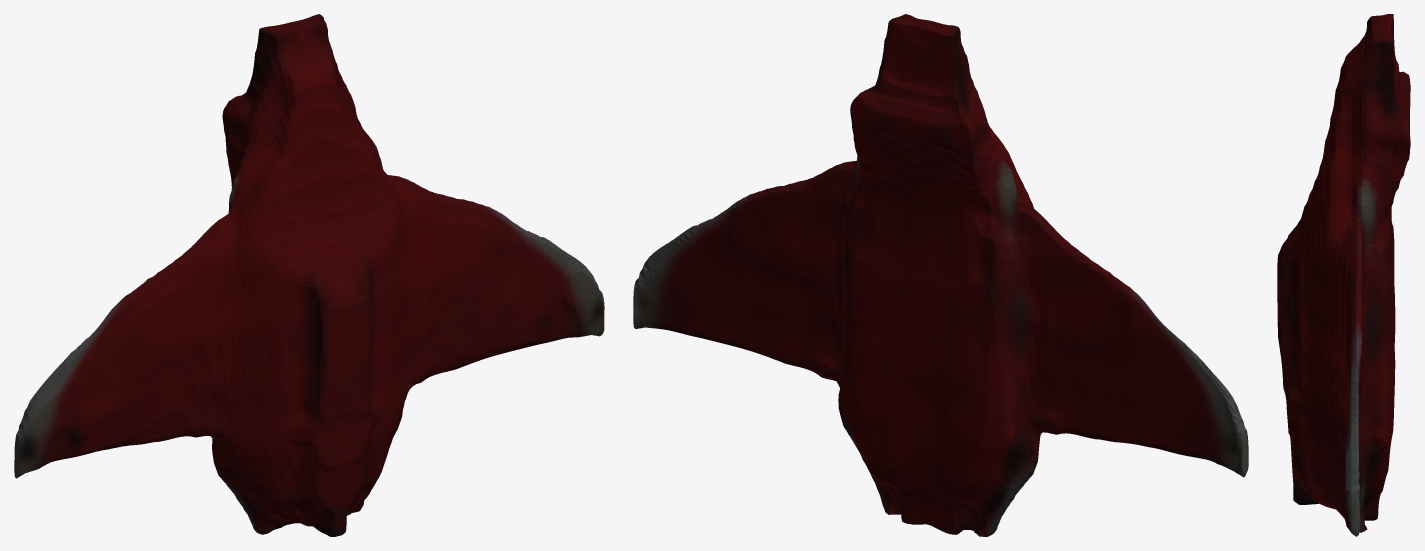
File: Low Poly Red Space Ship_1749655669.obj
3 renders of one model, left to right at view 1: azimuth 30°, elevation 25°; view 2: azimuth 150°, elevation 25°; view 3: azimuth 270°, elevation 25°, orthographic. The views are drawn at different scales.
Size of the model in its own units: 1.98 by 1.58 by 0.3949.
